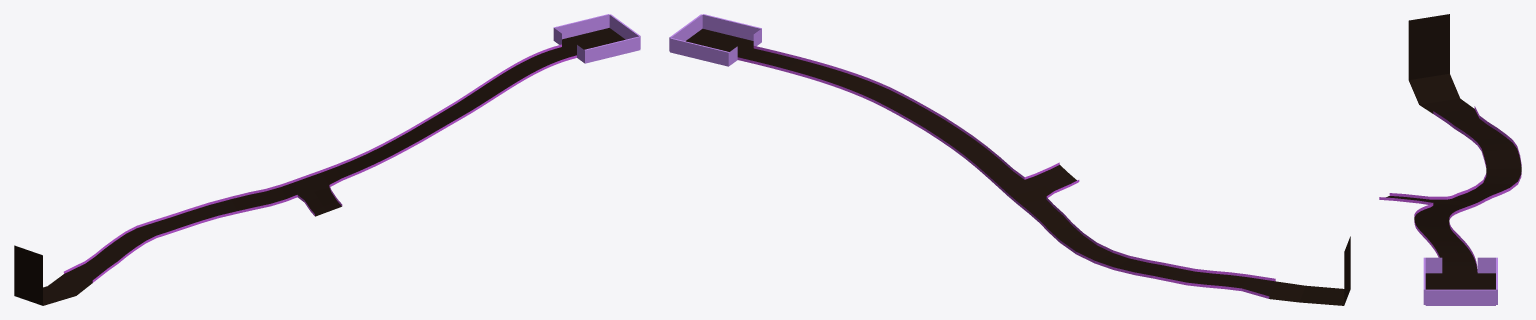
File: Level_3.fbx
The picture shows the model from 3 angles, left to right: view 1: azimuth 30°, elevation 25°; view 2: azimuth 150°, elevation 25°; view 3: azimuth 270°, elevation 25°; orthographic projection. The views are drawn at different scales.
Parts seen in each view (by area): view 1: Plane; view 2: Plane; view 3: Plane.
Boxes of the visible parts, x1=… form: Plane: x1=14, y1=14, x2=640, y2=305; Plane: x1=669, y1=14, x2=1350, y2=305; Plane: x1=1379, y1=14, x2=1521, y2=305.
Size of the model in its own units: 48198 by 8945 by 8186.
